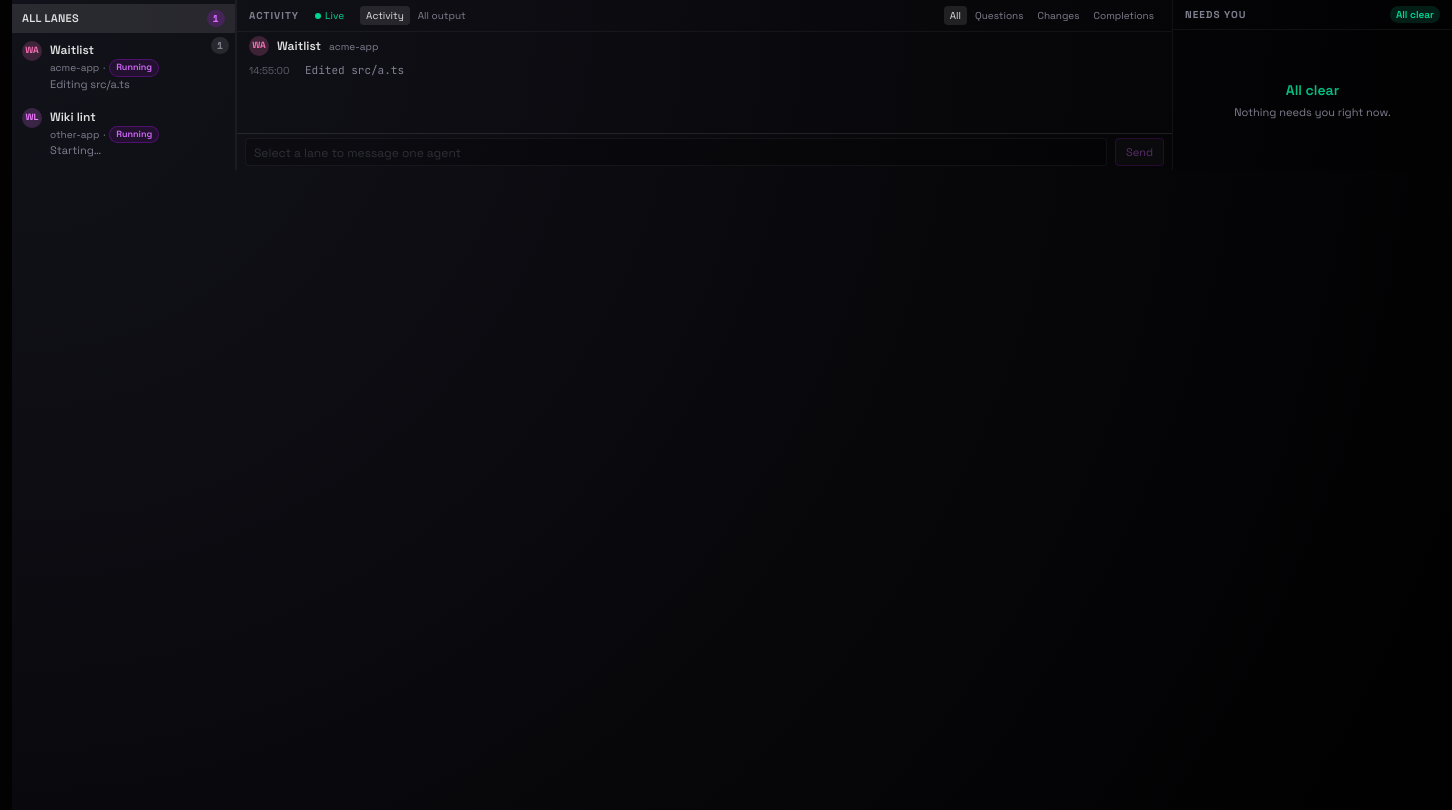
Test: ActivityFeed pause › says it is paused instead of claiming to be live
Step 1. Click the button with aria-label "pause" → (330, 16), box x1=311 y1=8 x2=348 y2=23
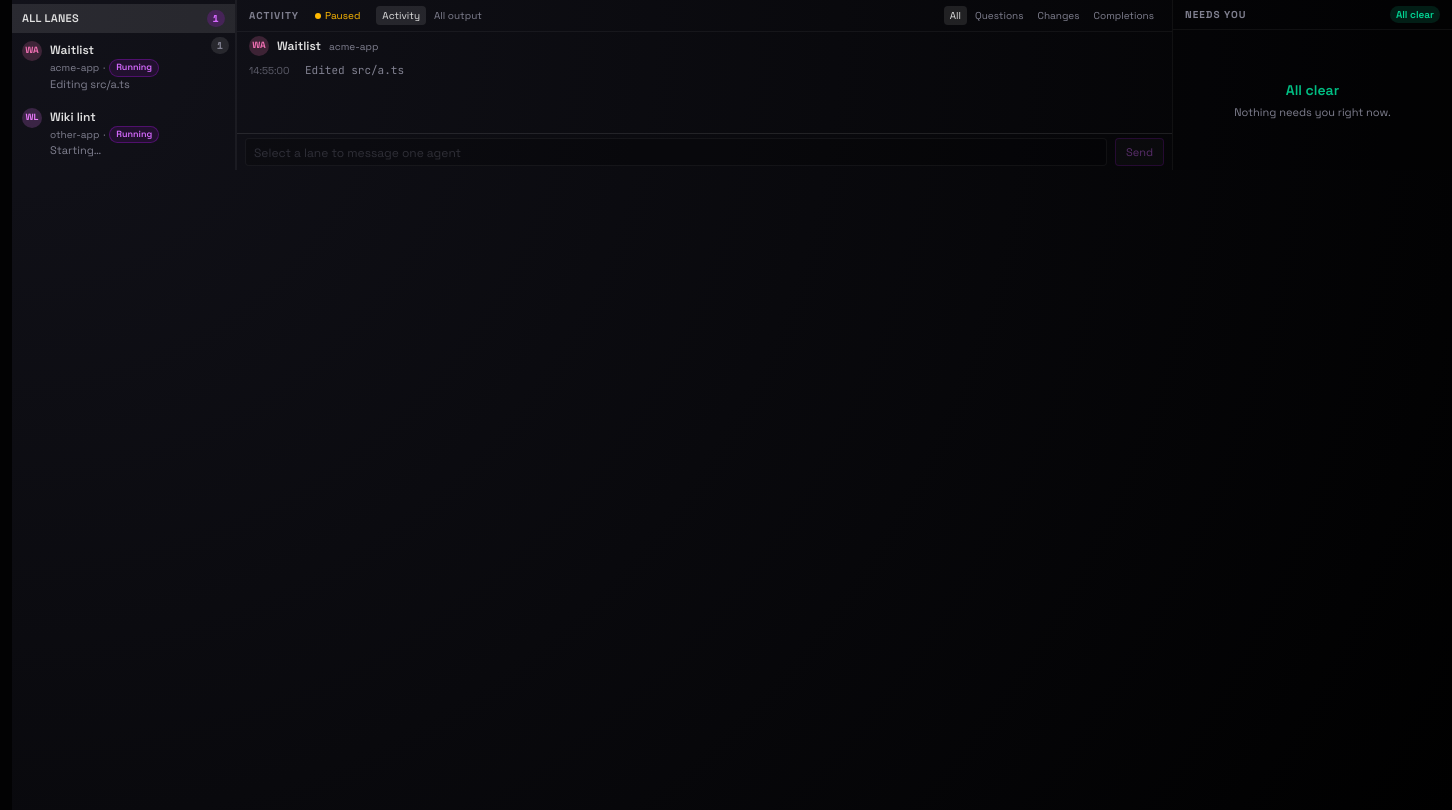
Result: the element with test id "activity-feed-header" shows "Paused" at x1=311 y1=8 x2=364 y2=23
